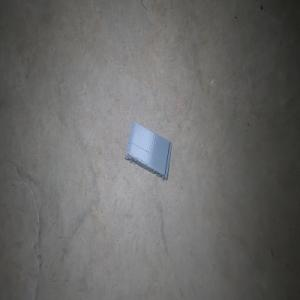PlasticPart: (124, 121, 172, 181)
